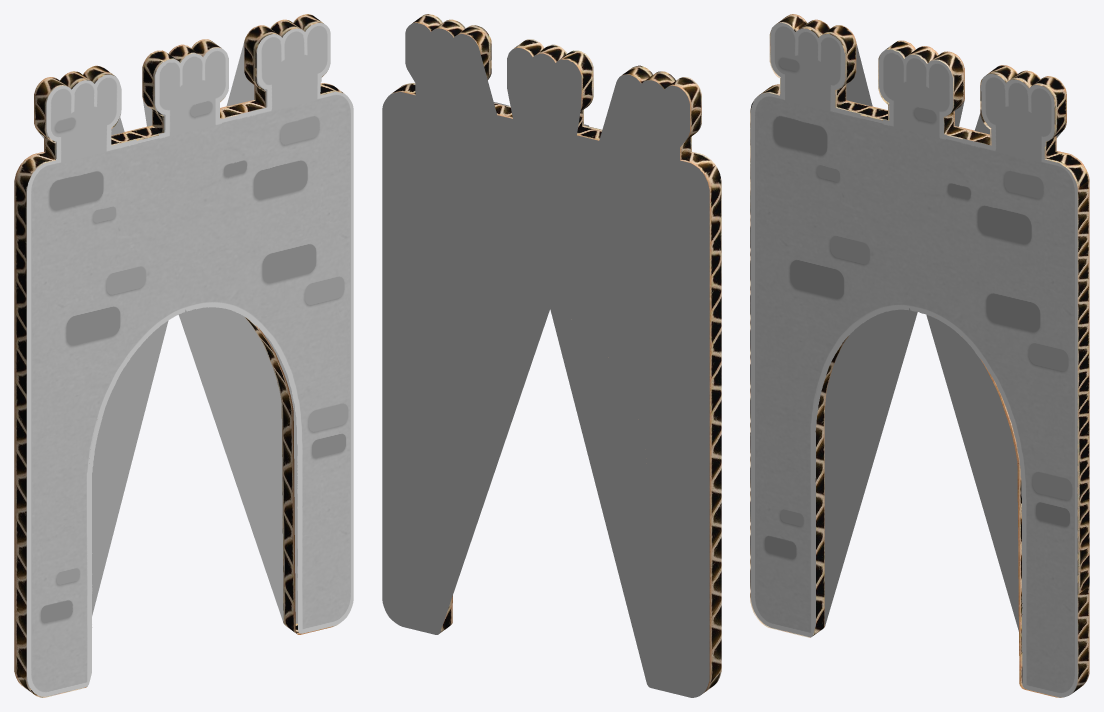
The model's file is cloudGate.fbx.
3 renders of one model, left to right at view 1: azimuth 30°, elevation 25°; view 2: azimuth 150°, elevation 25°; view 3: azimuth 330°, elevation 25°, orthographic.
Visible parts, largest first — view 1: cloud gate; view 2: cloud gate; view 3: cloud gate.
Boxes of the visible parts, box(x1,y1,x2,y2) form: cloud gate: box(14, 14, 353, 697); cloud gate: box(382, 14, 721, 697); cloud gate: box(750, 14, 1089, 697).
Size of the model in its own units: 471 by 837 by 30.84.
